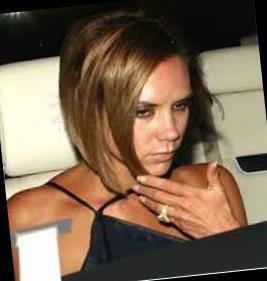Drunk: (122, 55, 191, 177)
